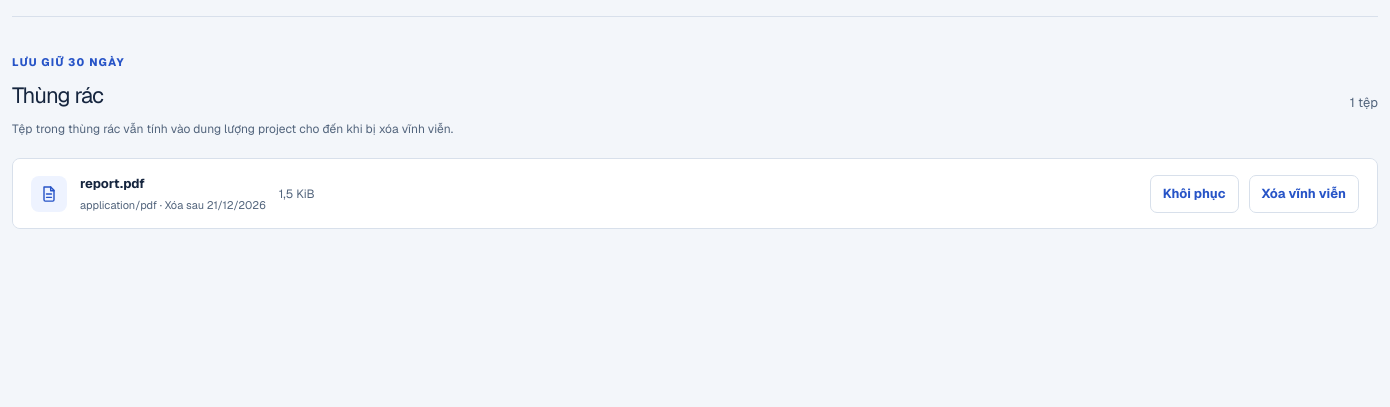
Scenario: TrashPanel › confirms permanent purge and preserves the row when the server fails
Expected: the text "report.pdf" is shown, [80, 175, 145, 192]
Click the button with aria-label "Xóa vĩnh viễn report.pdf" at (1304, 194), box [1248, 174, 1359, 212]
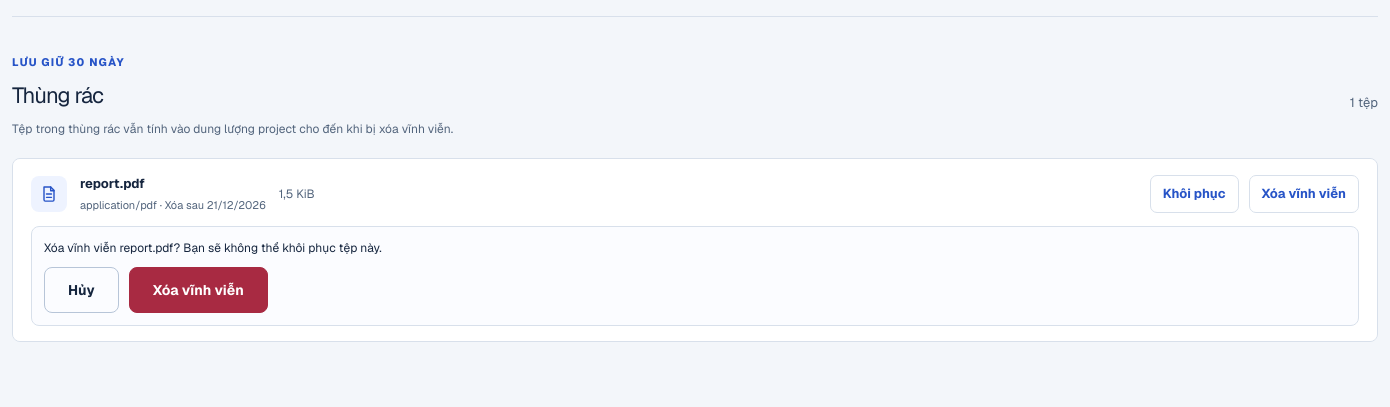
Click the button "Xóa vĩnh viễn" below "? Bạn sẽ không thể khôi phục tệp này." at (198, 290), box [129, 267, 268, 313]
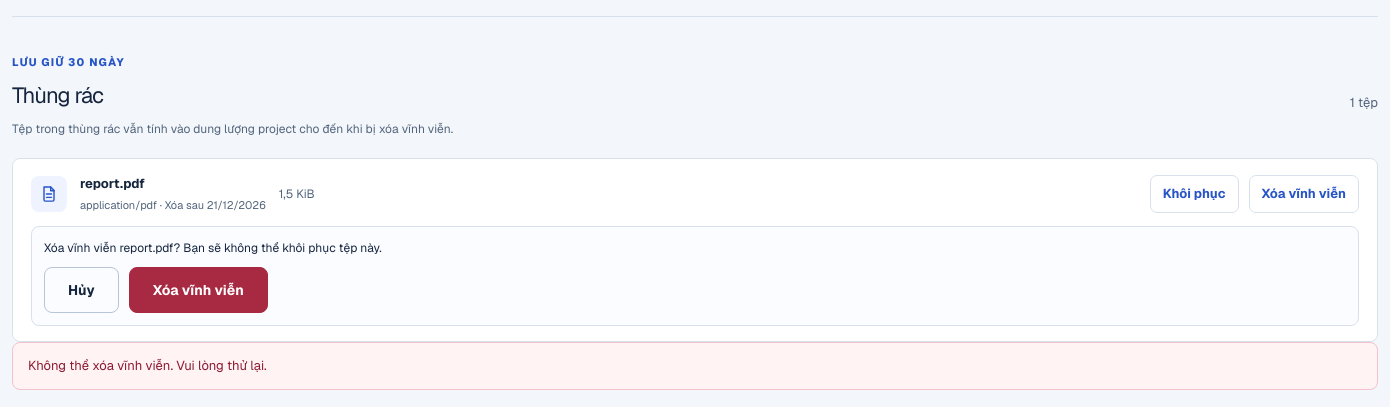
Expected: the text "report.pdf" is shown, [80, 175, 145, 192]
Now the message shows "Không thể xóa vĩnh viễn", box [28, 357, 267, 374]
